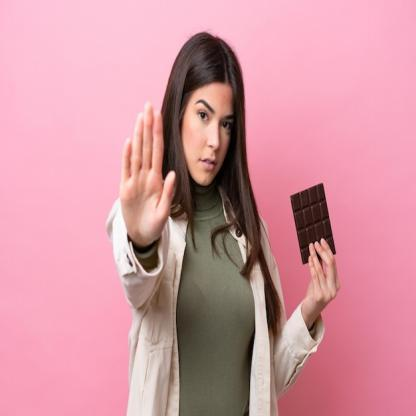stop: (118, 98, 178, 248)
